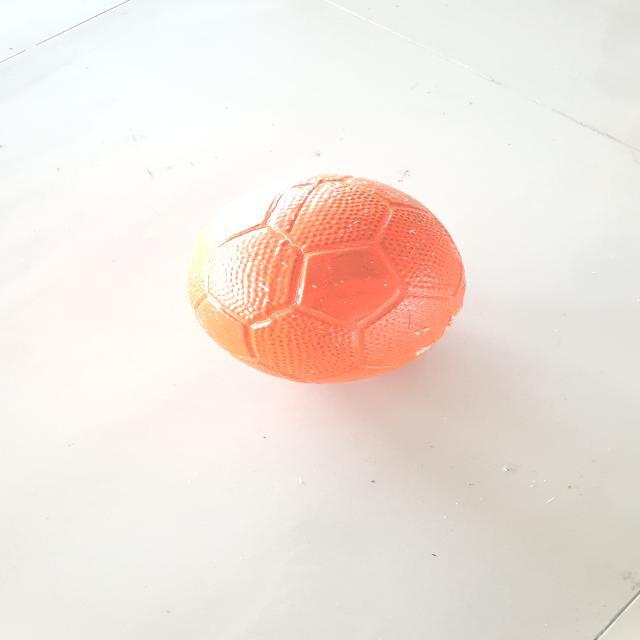bola: (176, 171, 472, 391)
